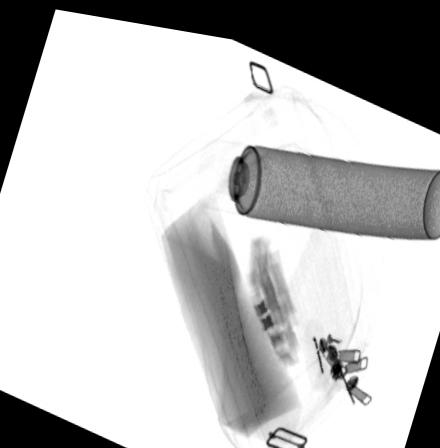Sprayer: (191, 129, 440, 225)
